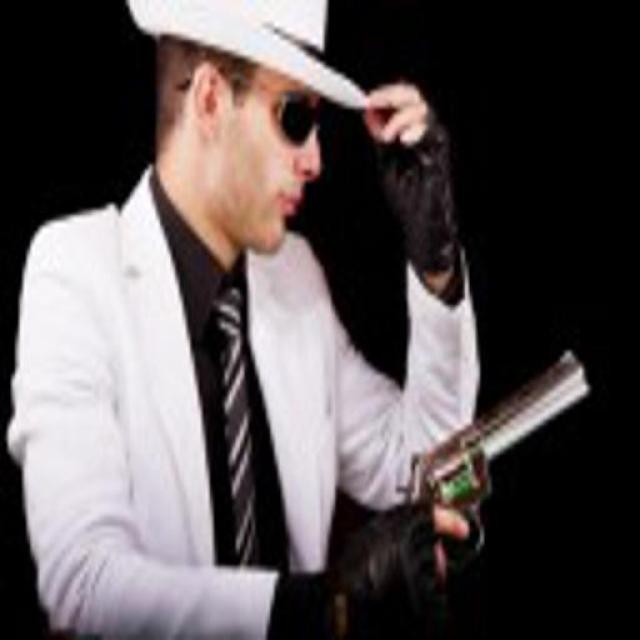pistol: (369, 339, 594, 600)
